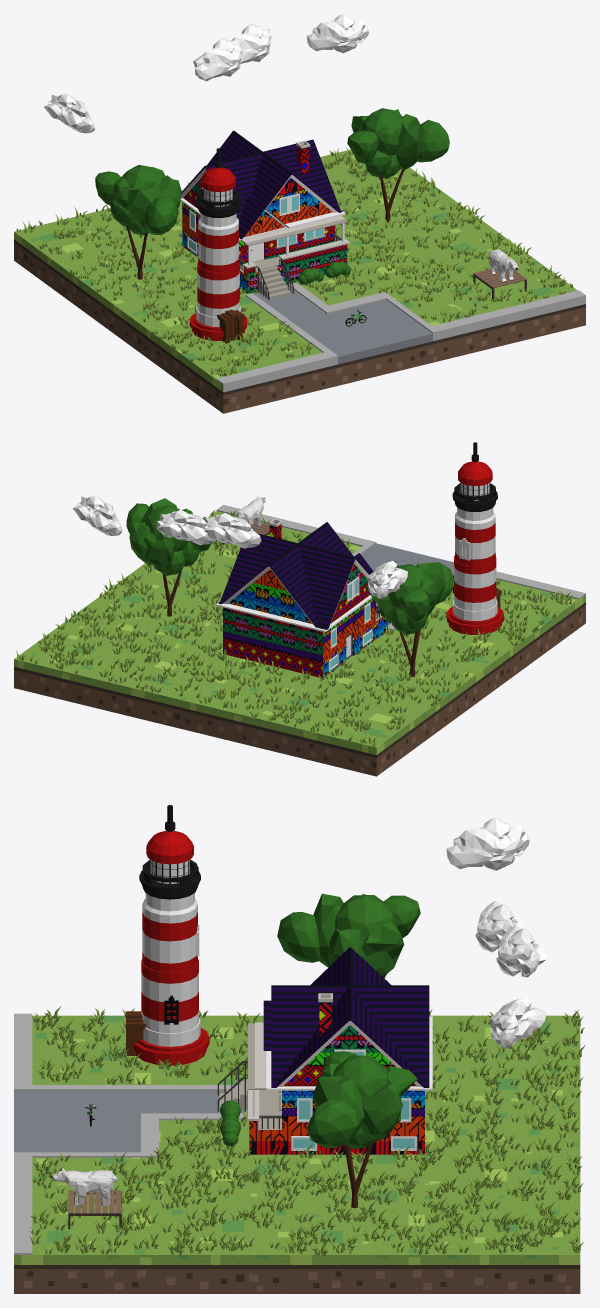
The picture shows the model from 3 angles, top to bottom: view 1: azimuth 30°, elevation 25°; view 2: azimuth 150°, elevation 25°; view 3: azimuth 270°, elevation 25°; orthographic projection. The views are drawn at different scales.
Parts seen in each view (by area): view 1: Cube.006, Circle.012_Grass_0.192, Cube.966, OBJRANDOM_LIGHTHOUSE, Cube.007, tree, tree.001, ANIMAL_OSO_POLAR, Cube.009; view 2: Cube.006, Cube.966, Circle.012_Grass_0.192, OBJRANDOM_LIGHTHOUSE, Cube.007, tree.001, tree, ANIMAL_OSO_POLAR; view 3: Cube.006, Circle.012_Grass_0.192, Cube.966, OBJRANDOM_LIGHTHOUSE, tree, Cube.007, tree.001, ANIMAL_OSO_POLAR, Cube.009.
Boxes of the visible parts, <box> form: Cube.006: <box>14,149,585,413</box>; Circle.012_Grass_0.192: <box>16,147,573,376</box>; Cube.966: <box>180,130,349,300</box>; OBJRANDOM_LIGHTHOUSE: <box>189,148,247,343</box>; Cube.007: <box>44,14,368,133</box>; tree: <box>347,108,449,222</box>; tree.001: <box>95,165,181,279</box>; ANIMAL_OSO_POLAR: <box>489,249,518,282</box>; Cube.009: <box>473,267,526,299</box>; Cube.006: <box>14,505,585,776</box>; Cube.966: <box>215,519,387,678</box>; Circle.012_Grass_0.192: <box>16,510,572,746</box>; OBJRANDOM_LIGHTHOUSE: <box>446,442,503,634</box>; Cube.007: <box>72,495,407,599</box>; tree.001: <box>365,562,454,676</box>; tree: <box>126,498,211,616</box>; ANIMAL_OSO_POLAR: <box>236,496,265,526</box>; Cube.006: <box>14,1013,580,1293</box>; Circle.012_Grass_0.192: <box>29,1006,585,1256</box>; Cube.966: <box>217,947,432,1154</box>; OBJRANDOM_LIGHTHOUSE: <box>126,805,209,1065</box>; tree: <box>307,1051,417,1208</box>; Cube.007: <box>446,817,546,1048</box>; tree.001: <box>277,893,420,978</box>; ANIMAL_OSO_POLAR: <box>49,1168,117,1205</box>; Cube.009: <box>68,1190,121,1229</box>.
Size of the model in its own units: 4071 by 2291 by 4040.
40 materials, 7 textured.
